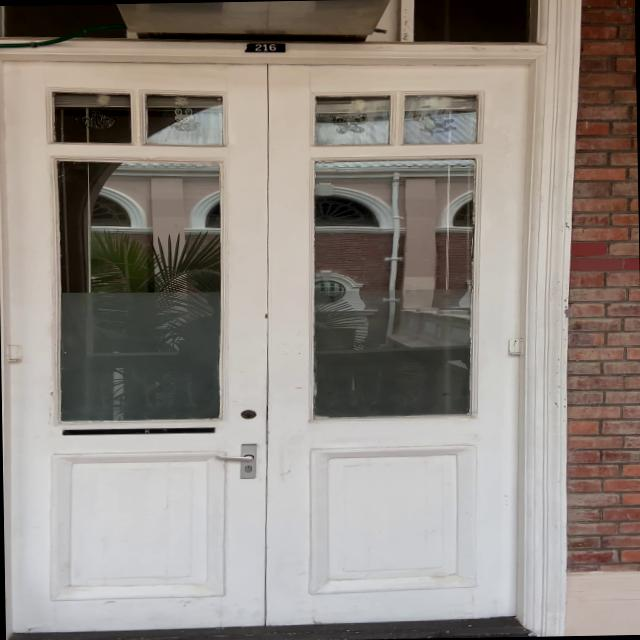room216: (237, 38, 289, 54)
